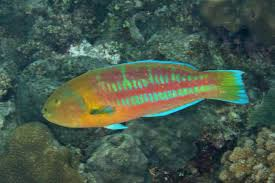bera: (38, 50, 252, 132)
